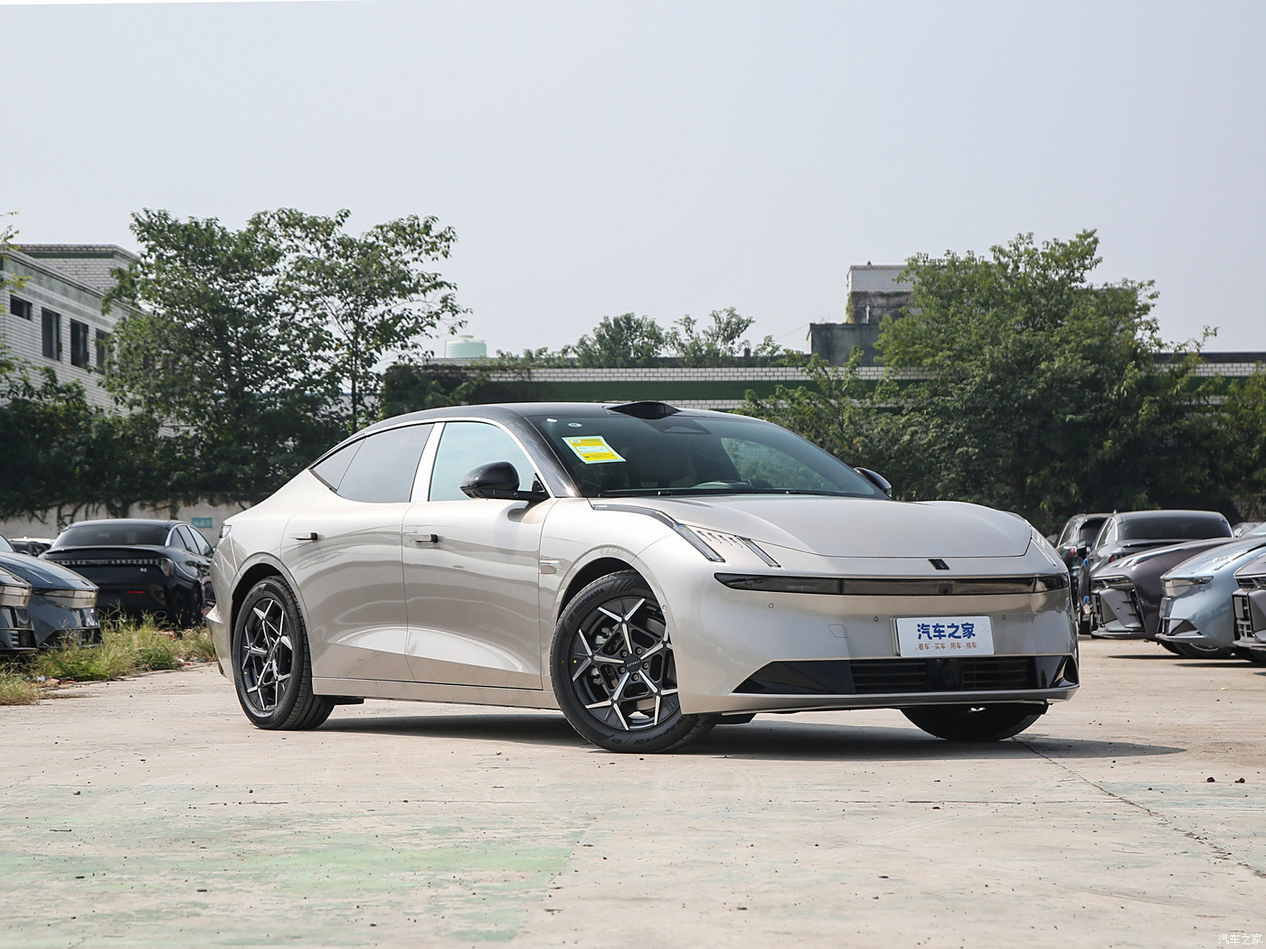LINK&CO: (928, 559, 950, 569)
